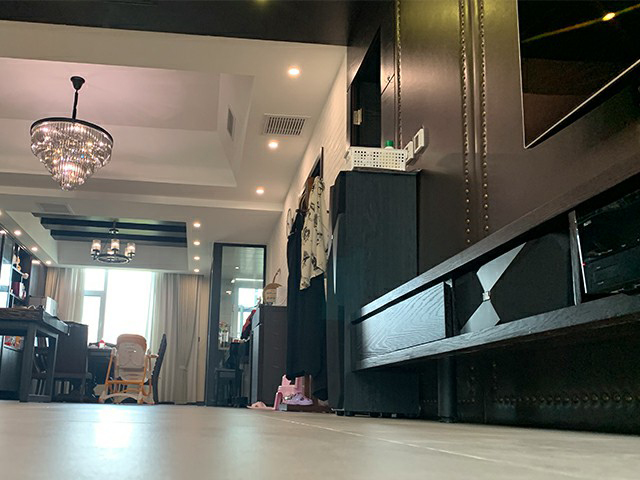cabinet: (349, 150, 640, 425), (1, 227, 45, 399), (245, 303, 289, 407)
curtain: (149, 272, 209, 405)
slippers: (246, 400, 276, 411)
stool: (52, 320, 95, 403), (144, 333, 168, 405), (274, 374, 306, 410)
table: (1, 306, 70, 403)
